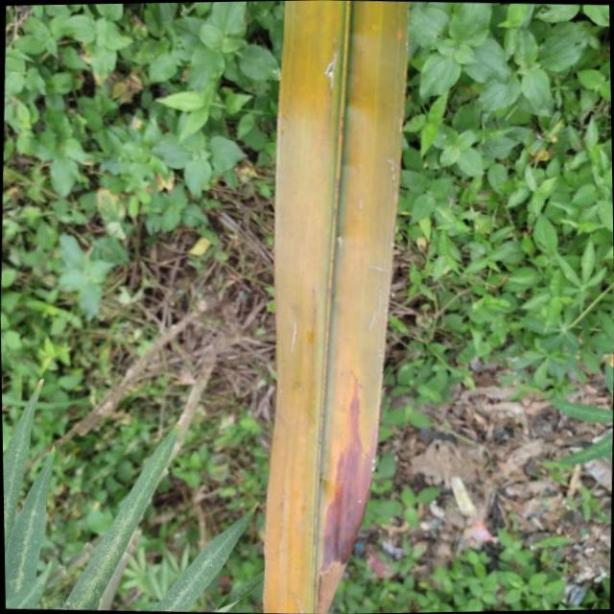Megnesium: (256, 0, 411, 614)
